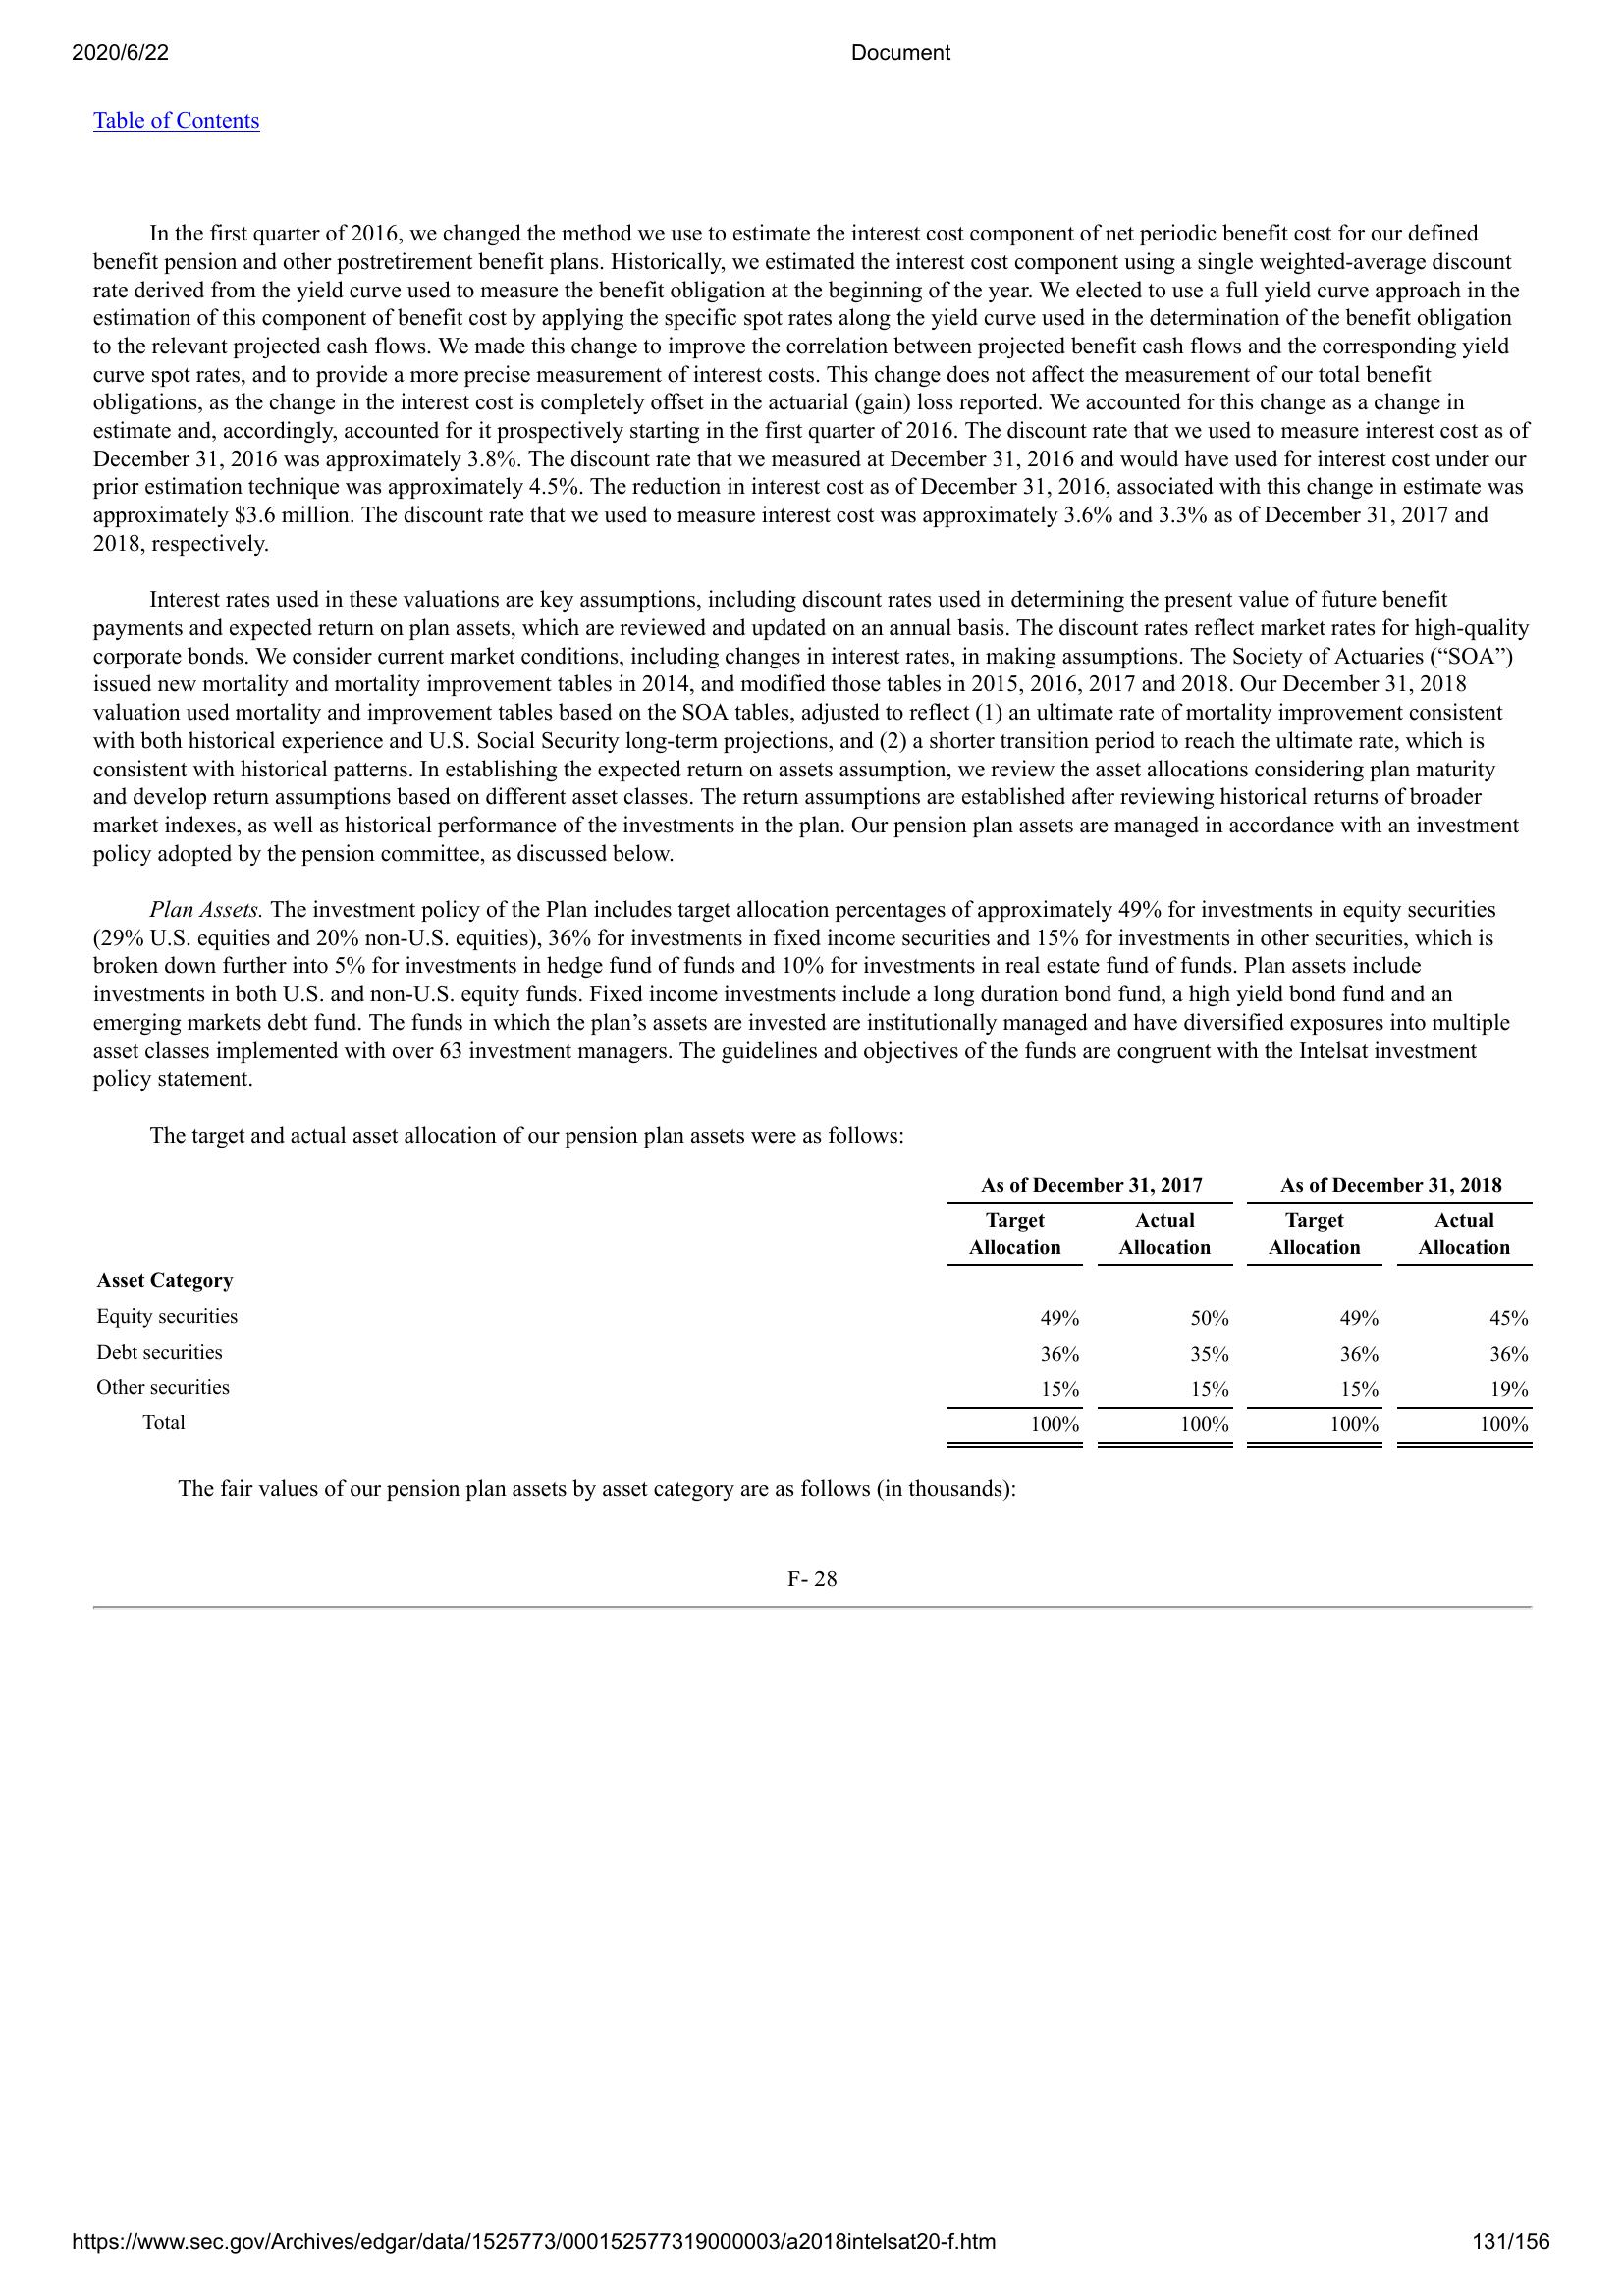table: (84, 1174, 1540, 1453)
